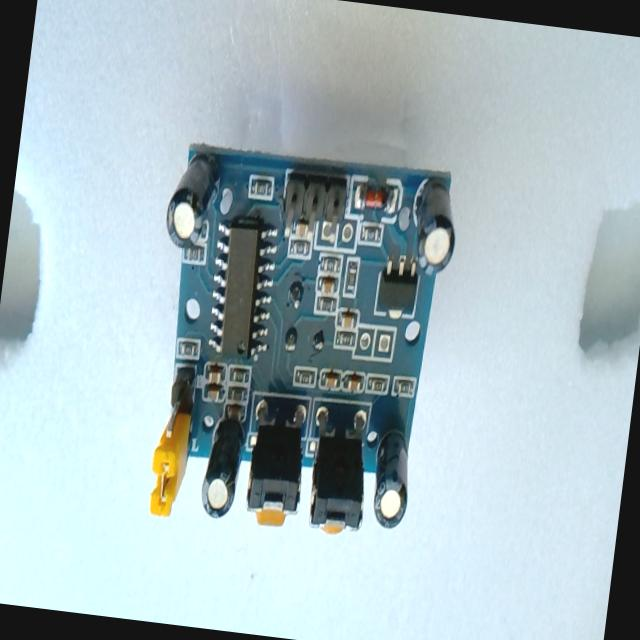Electrolytic capacitor: (162, 147, 222, 252), (407, 176, 462, 278), (198, 411, 248, 522), (366, 426, 416, 532)
IC: (204, 215, 282, 362)
pinheader: (278, 172, 348, 244)
